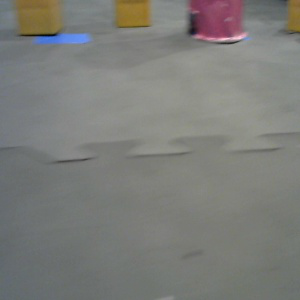Right: (186, 2, 250, 43)
